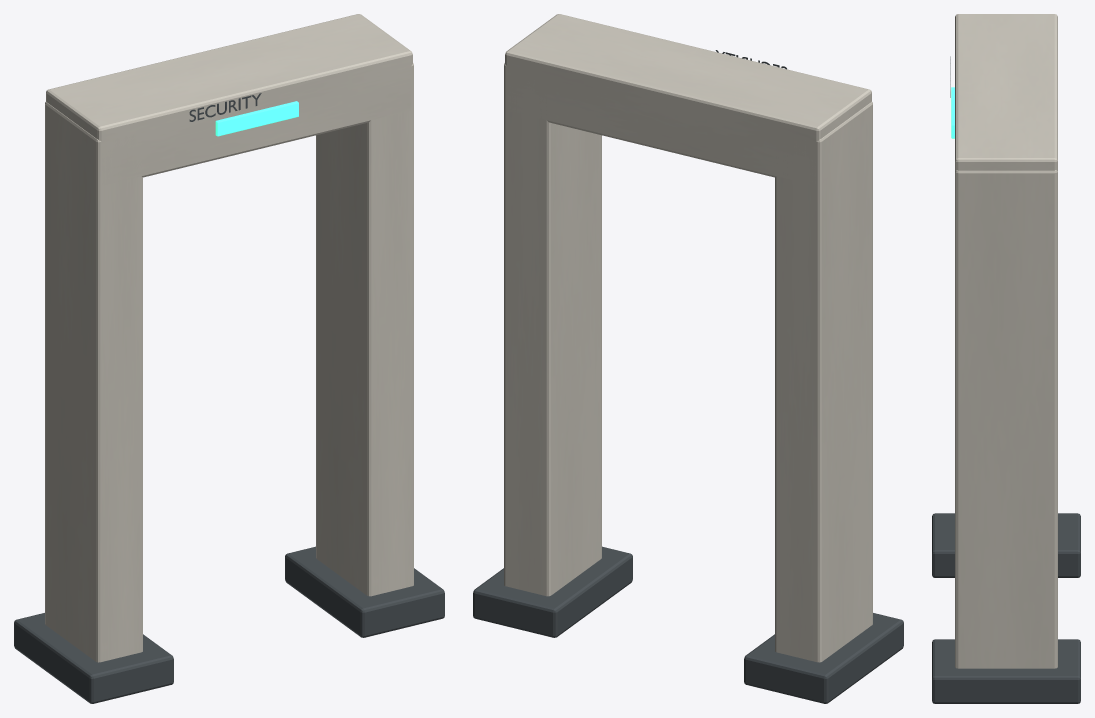
Rendered from security_metal_detector.glb.
The picture shows the model from 3 angles, left to right: view 1: azimuth 30°, elevation 25°; view 2: azimuth 150°, elevation 25°; view 3: azimuth 270°, elevation 25°; orthographic projection. The views are drawn at different scales.
Visible parts, largest first — view 1: Upright, Upright.001, Header, FloorFoot, FloorFoot.001, Indicator; view 2: Upright, Upright.001, Header, FloorFoot, FloorFoot.001; view 3: Upright.001, Header, FloorFoot.001, FloorFoot.
Boxes of the visible parts, x1=… form: Upright: x1=45, y1=101, x2=142, y2=662; Upright.001: x1=316, y1=63, x2=413, y2=596; Header: x1=46, y1=14, x2=412, y2=185; FloorFoot: x1=14, y1=613, x2=173, y2=703; FloorFoot.001: x1=285, y1=546, x2=444, y2=637; Indicator: x1=215, y1=101, x2=298, y2=136; Upright: x1=775, y1=101, x2=872, y2=662; Upright.001: x1=504, y1=63, x2=601, y2=596; Header: x1=505, y1=14, x2=871, y2=185; FloorFoot: x1=744, y1=613, x2=903, y2=703; FloorFoot.001: x1=473, y1=546, x2=632, y2=637; Upright.001: x1=955, y1=170, x2=1057, y2=668; Header: x1=955, y1=14, x2=1057, y2=170; FloorFoot.001: x1=932, y1=639, x2=1080, y2=703; FloorFoot: x1=932, y1=513, x2=1080, y2=577.
Size of the model in its own units: 1.52 by 2.31 by 0.58.
Materials: 3 (1 with a texture image).
